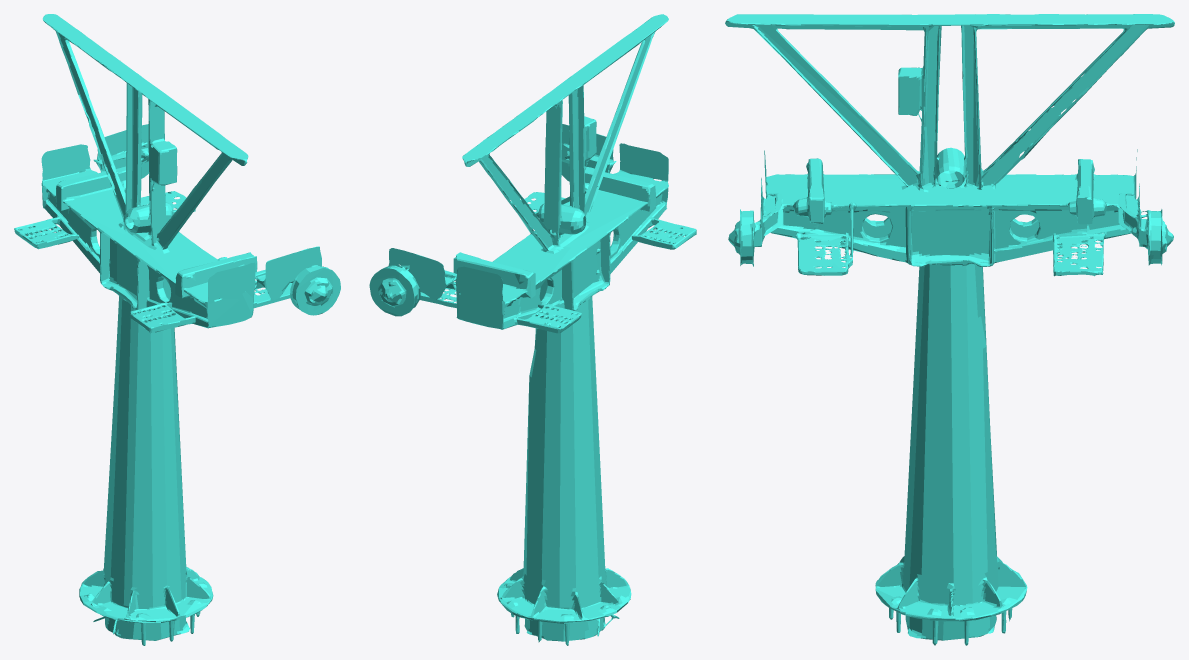
Rendered from park_liftPillar.glb.
3 renders of one model, left to right at view 1: azimuth 30°, elevation 25°; view 2: azimuth 150°, elevation 25°; view 3: azimuth 270°, elevation 25°, orthographic. The views are drawn at different scales.
Parts seen in each view (by area): view 1: park_liftPillar; view 2: park_liftPillar; view 3: park_liftPillar.
Part boxes in pixels (x1,y1,x2,y2): park_liftPillar: (14,14,340,645); park_liftPillar: (369,14,696,645); park_liftPillar: (725,14,1174,645).
Bounding box in the file's own units: 0.1976 × 0.6154 × 0.4151.
